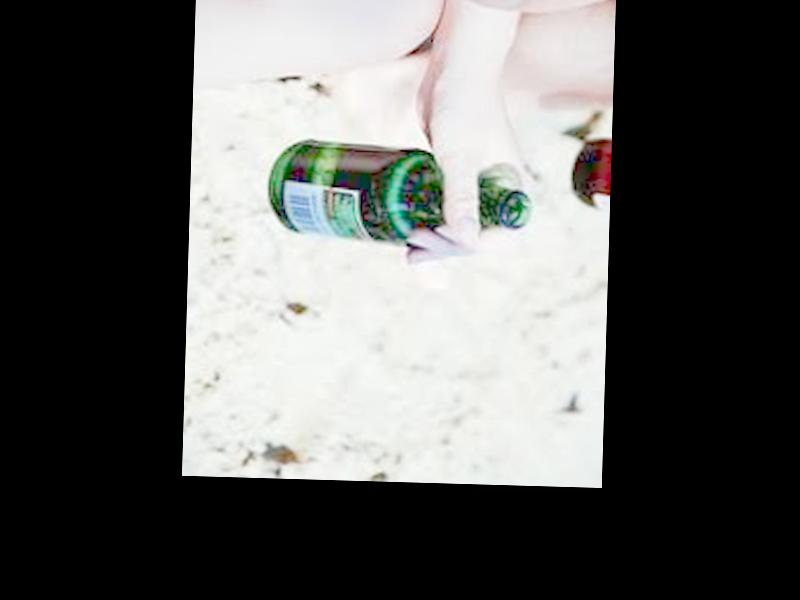Beer: (266, 136, 535, 248)
